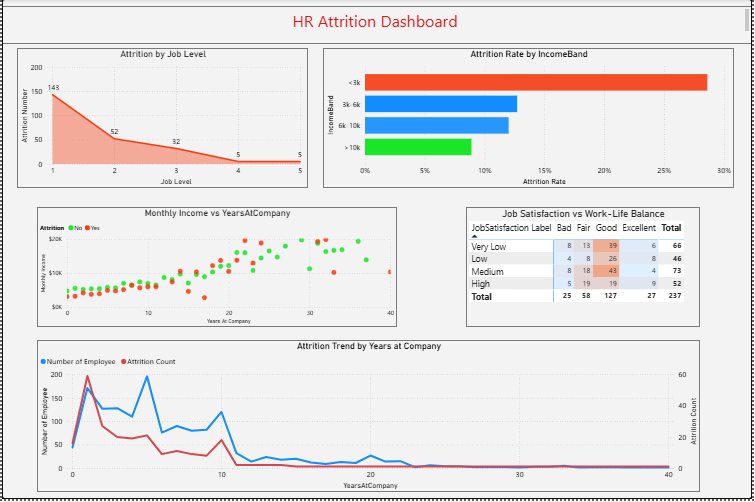

The dashboard page shown, as its layout file describes it:
{"tool":"powerbi","page":{"name":"Income Analysis","canvas":[1500,1000],"ordinal":1},"visuals":[{"type":"scatterChart","title":" Monthly Income vs YearsAtCompany","fields":{"Series":["HR-Employee-Attrition.AttritionFlag"],"X":["HR-Employee-Attrition.YearsAtCompany"],"Y":["HR-Employee-Attrition.Avg Monthly Income"]},"box":[70,416,720,240],"z":3000},{"type":"areaChart","title":"Attrition by Job Level","fields":{"Category":["HR-Employee-Attrition.JobLevel"],"Y":["HR-Employee-Attrition.Attrition Count"]},"box":[30,98,582,280],"z":4001},{"type":"pivotTable","title":"Job Satisfaction vs Work-Life Balance","fields":{"Values":["CountNonNull(HR-Employee-Attrition.EmployeeNumber)"],"Rows":["HR-Employee-Attrition.JobSatisfaction Label"],"Columns":["HR-Employee-Attrition.WorkLifeBalance Label"]},"box":[928,416,468,240],"z":4003},{"type":"textbox","box":[0,14,1500,76],"z":4005},{"type":"lineChart","title":"Attrition Trend by Years at Company","fields":{"Category":["HR-Employee-Attrition.YearsAtCompany"],"Y":["HR-Employee-Attrition.Attrition Rate","Count(HR-Employee-Attrition.EmployeeNumber)"],"Y2":["HR-Employee-Attrition.Attrition Count"]},"box":[70,682,1326,304],"z":4006},{"type":"barChart","fields":{"Category":["HR-Employee-Attrition.IncomeBand"],"Y":["HR-Employee-Attrition.Attrition Rate"]},"box":[642,98,822,280],"z":4007}]}

Visuals, with their boxes in screenshot pixels (x1, y1, x2, y2), scaled from the page's 1500x1000 canvas onto the 755x502 screenshot:
" Monthly Income vs YearsAtCompany" scatterChart: bbox(35, 209, 398, 329)
"Attrition by Job Level" areaChart: bbox(15, 49, 308, 190)
"Job Satisfaction vs Work-Life Balance" pivotTable: bbox(467, 209, 703, 329)
textbox: bbox(0, 7, 754, 45)
"Attrition Trend by Years at Company" lineChart: bbox(35, 342, 703, 495)
barChart - HR-Employee-Attrition.IncomeBand x HR-Employee-Attrition.Attrition Rate: bbox(323, 49, 737, 190)
